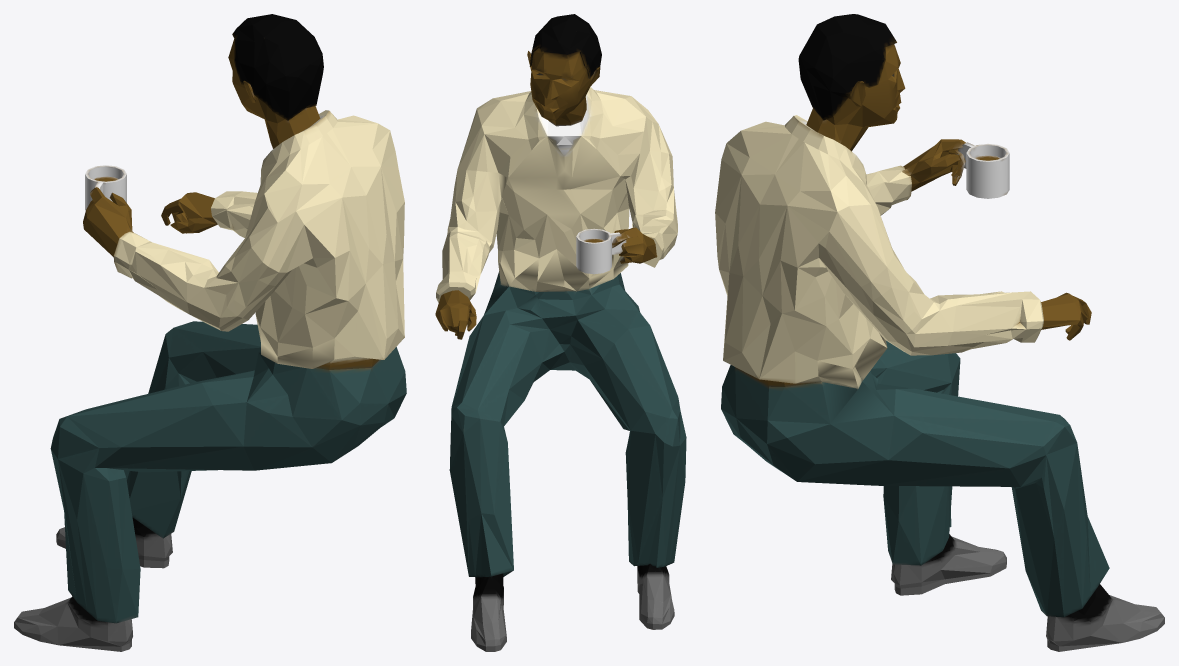
The model's file is Person Seated.fbx.
3 renders of one model, left to right at view 1: azimuth 30°, elevation 25°; view 2: azimuth 150°, elevation 25°; view 3: azimuth 270°, elevation 25°, orthographic. The views are drawn at different scales.
Parts seen in each view (by area): view 1: Person_Seated; view 2: Person_Seated; view 3: Person_Seated.
Part boxes in pixels (left/top/right/bottom): Person_Seated: left=14, top=14, right=406, bottom=651; Person_Seated: left=435, top=14, right=686, bottom=651; Person_Seated: left=715, top=14, right=1164, bottom=651.
Size of the model in its own units: 0.7252 by 1.42 by 0.907.
